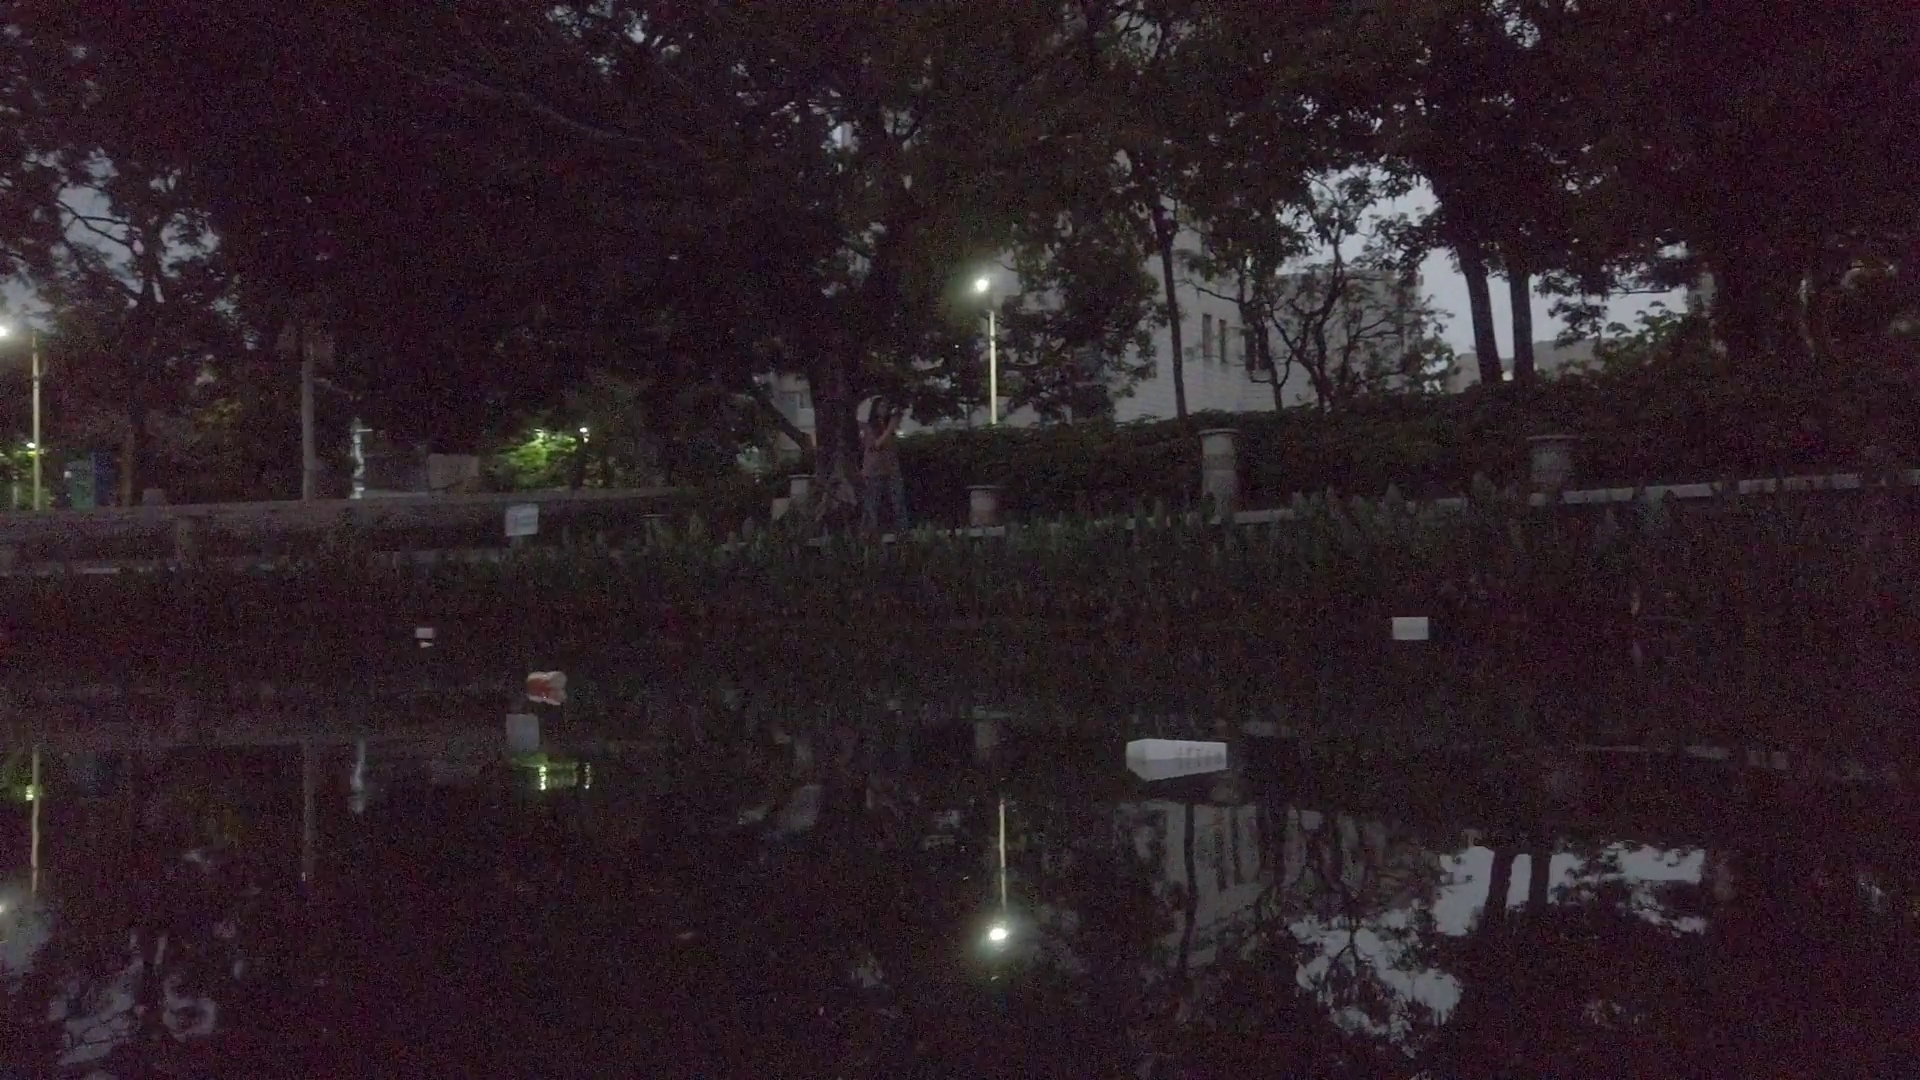bottle: (527, 665, 564, 694)
carton: (1125, 735, 1228, 775), (1393, 615, 1431, 638), (413, 624, 436, 640)
paper: (419, 640, 438, 650)
